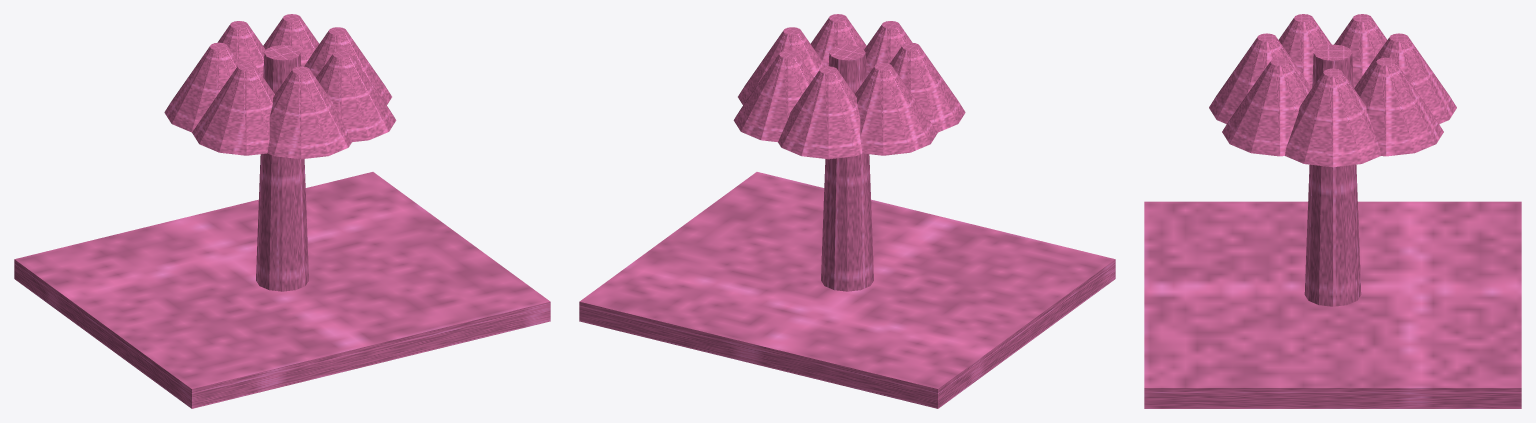
The model's file is dream_orchard_02.glb.
The picture shows the model from 3 angles, left to right: view 1: azimuth 30°, elevation 25°; view 2: azimuth 150°, elevation 25°; view 3: azimuth 270°, elevation 25°; orthographic projection. The views are drawn at different scales.
Visible parts, largest first — view 1: Foundation, DreamTrunk, DreamPetal.005, DreamPetal.004, DreamPetal.006, DreamPetal.003, DreamPetal, DreamPetal.001, DreamPetal.002; view 2: Foundation, DreamTrunk, DreamPetal.002, DreamPetal.003, DreamPetal.001, DreamPetal.004, DreamPetal, DreamPetal.006, DreamPetal.005; view 3: Foundation, DreamTrunk, DreamPetal, DreamPetal.001, DreamPetal.006, DreamPetal.002, DreamPetal.005, DreamPetal.003, DreamPetal.004.
Boxes of the visible parts, left/top/right/bottom form: Foundation: left=14, top=172, right=550, bottom=408; DreamTrunk: left=256, top=45, right=308, bottom=291; DreamPetal.005: left=267, top=66, right=351, bottom=159; DreamPetal.004: left=192, top=63, right=274, bottom=155; DreamPetal.006: left=316, top=50, right=396, bottom=142; DreamPetal.003: left=164, top=42, right=239, bottom=132; DreamPetal: left=304, top=27, right=391, bottom=105; DreamPetal.001: left=263, top=14, right=318, bottom=66; DreamPetal.002: left=217, top=21, right=265, bottom=76; Foundation: left=579, top=172, right=1115, bottom=408; DreamTrunk: left=821, top=45, right=873, bottom=291; DreamPetal.002: left=778, top=66, right=862, bottom=159; DreamPetal.003: left=855, top=63, right=937, bottom=155; DreamPetal.001: left=733, top=50, right=813, bottom=142; DreamPetal.004: left=890, top=42, right=965, bottom=132; DreamPetal: left=738, top=27, right=825, bottom=105; DreamPetal.006: left=811, top=14, right=866, bottom=66; DreamPetal.005: left=864, top=21, right=912, bottom=76; Foundation: left=1144, top=201, right=1521, bottom=408; DreamTrunk: left=1304, top=44, right=1361, bottom=306; DreamPetal: left=1285, top=68, right=1380, bottom=167; DreamPetal.001: left=1356, top=57, right=1443, bottom=156; DreamPetal.006: left=1222, top=57, right=1309, bottom=156; DreamPetal.002: left=1354, top=33, right=1456, bottom=124; DreamPetal.005: left=1209, top=33, right=1311, bottom=124; DreamPetal.003: left=1334, top=14, right=1387, bottom=88; DreamPetal.004: left=1278, top=14, right=1331, bottom=88.
Bounding box in the file's own units: 4.55 × 3.1 × 3.9.
Materials: 1 (1 with a texture image).
